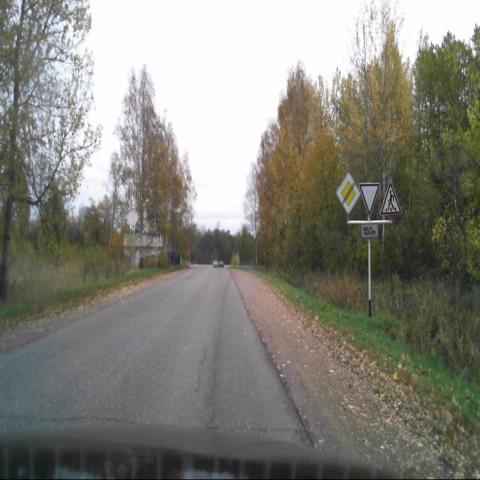8_1_1: (360, 223, 380, 238)
